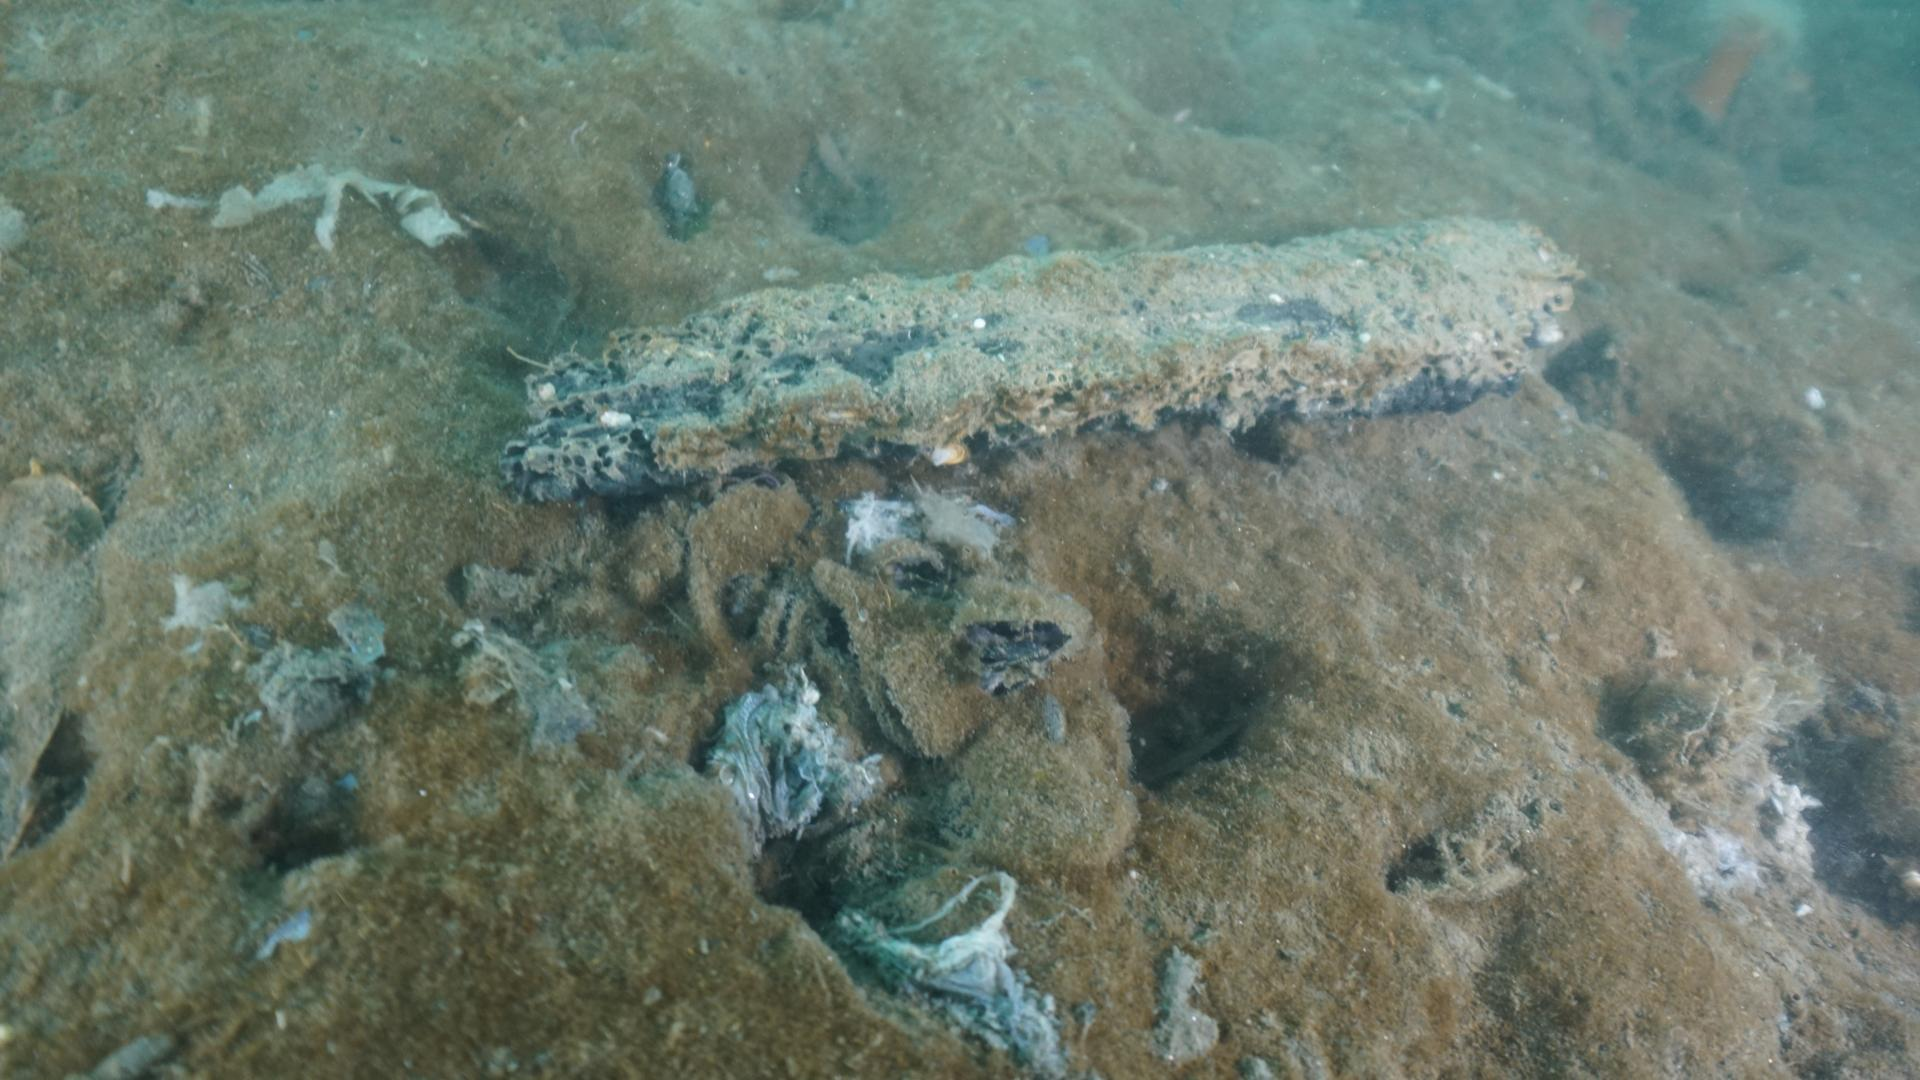wood: (493, 208, 1596, 509)
